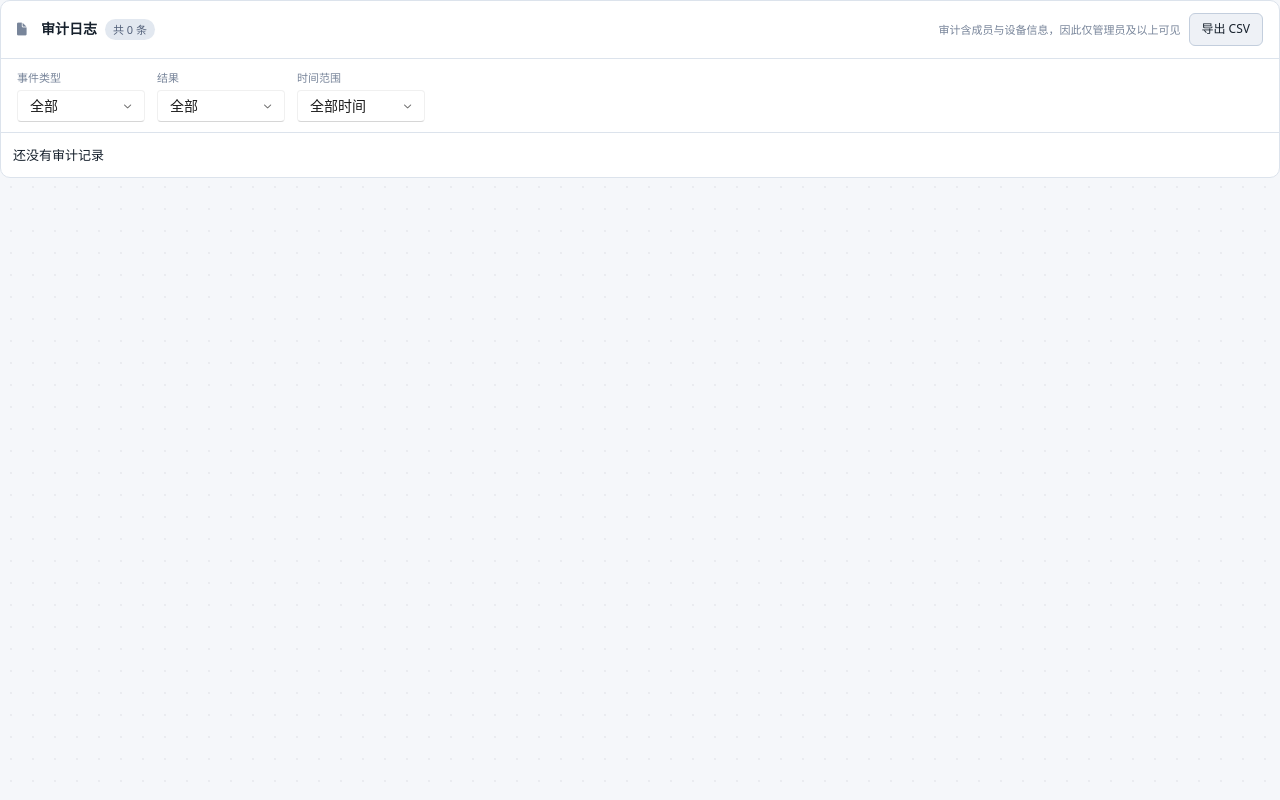
Test: GroupAuditPanel 筛选 › 筛完没有记录与本来就没有记录分开说
Expected: the element with class "console-empty" reads "还没有审计记录", [13,146,104,164]
Step 1. Click the dropdown with test id "audit-filter-outcome" → [221, 106], box [157,90,285,122]
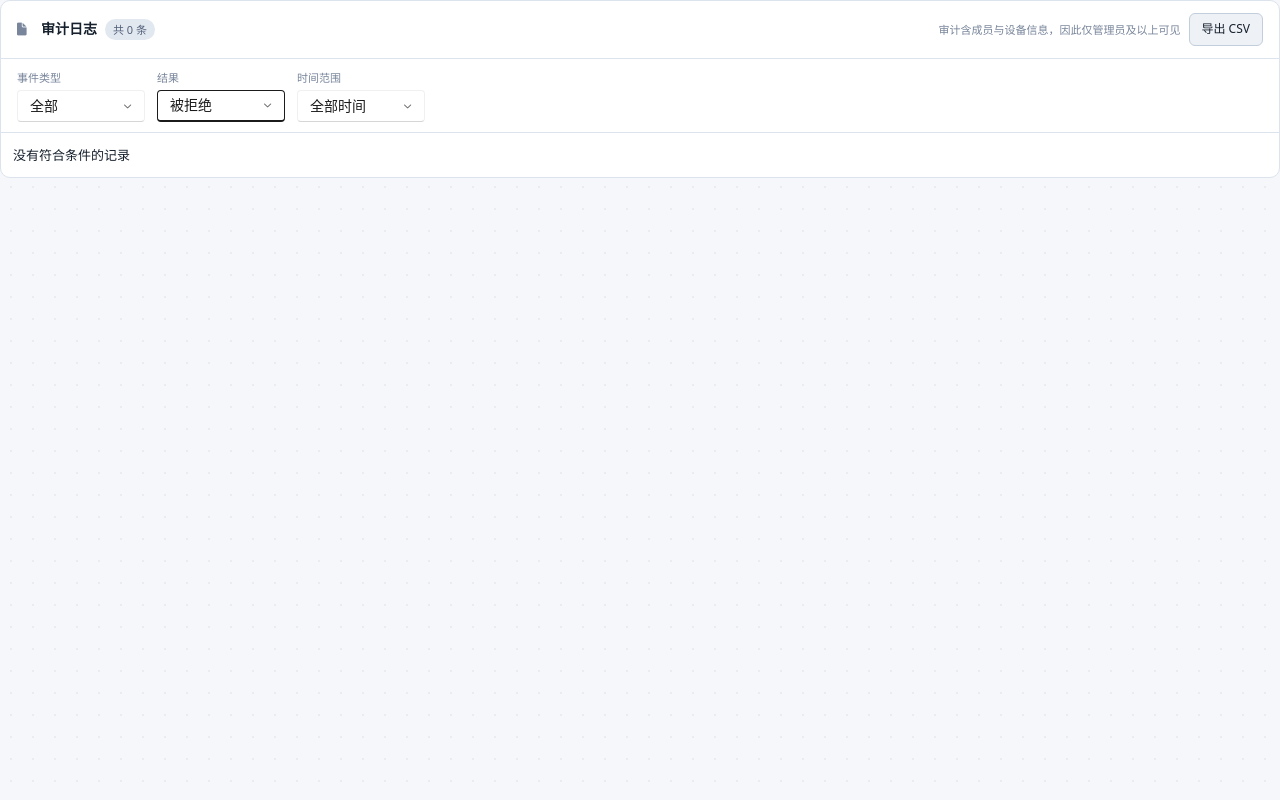
Result: the element with class "console-empty" reads "没有符合条件的记录" at [13,146,130,164]
